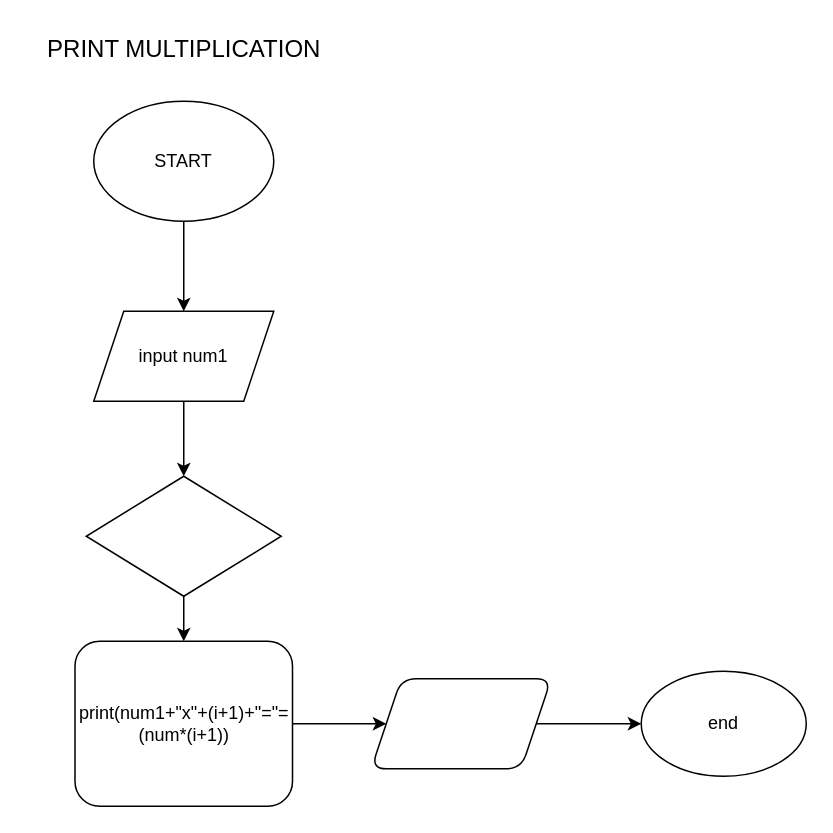
The diagram is 833 pixels wide and 833 high, and some of its shapes have lost their labels. The centre of each missing label's shape, as x and y in pixels:
for(i=0;i<10;i++): the point at 183,535
output num1: the point at 460,723
